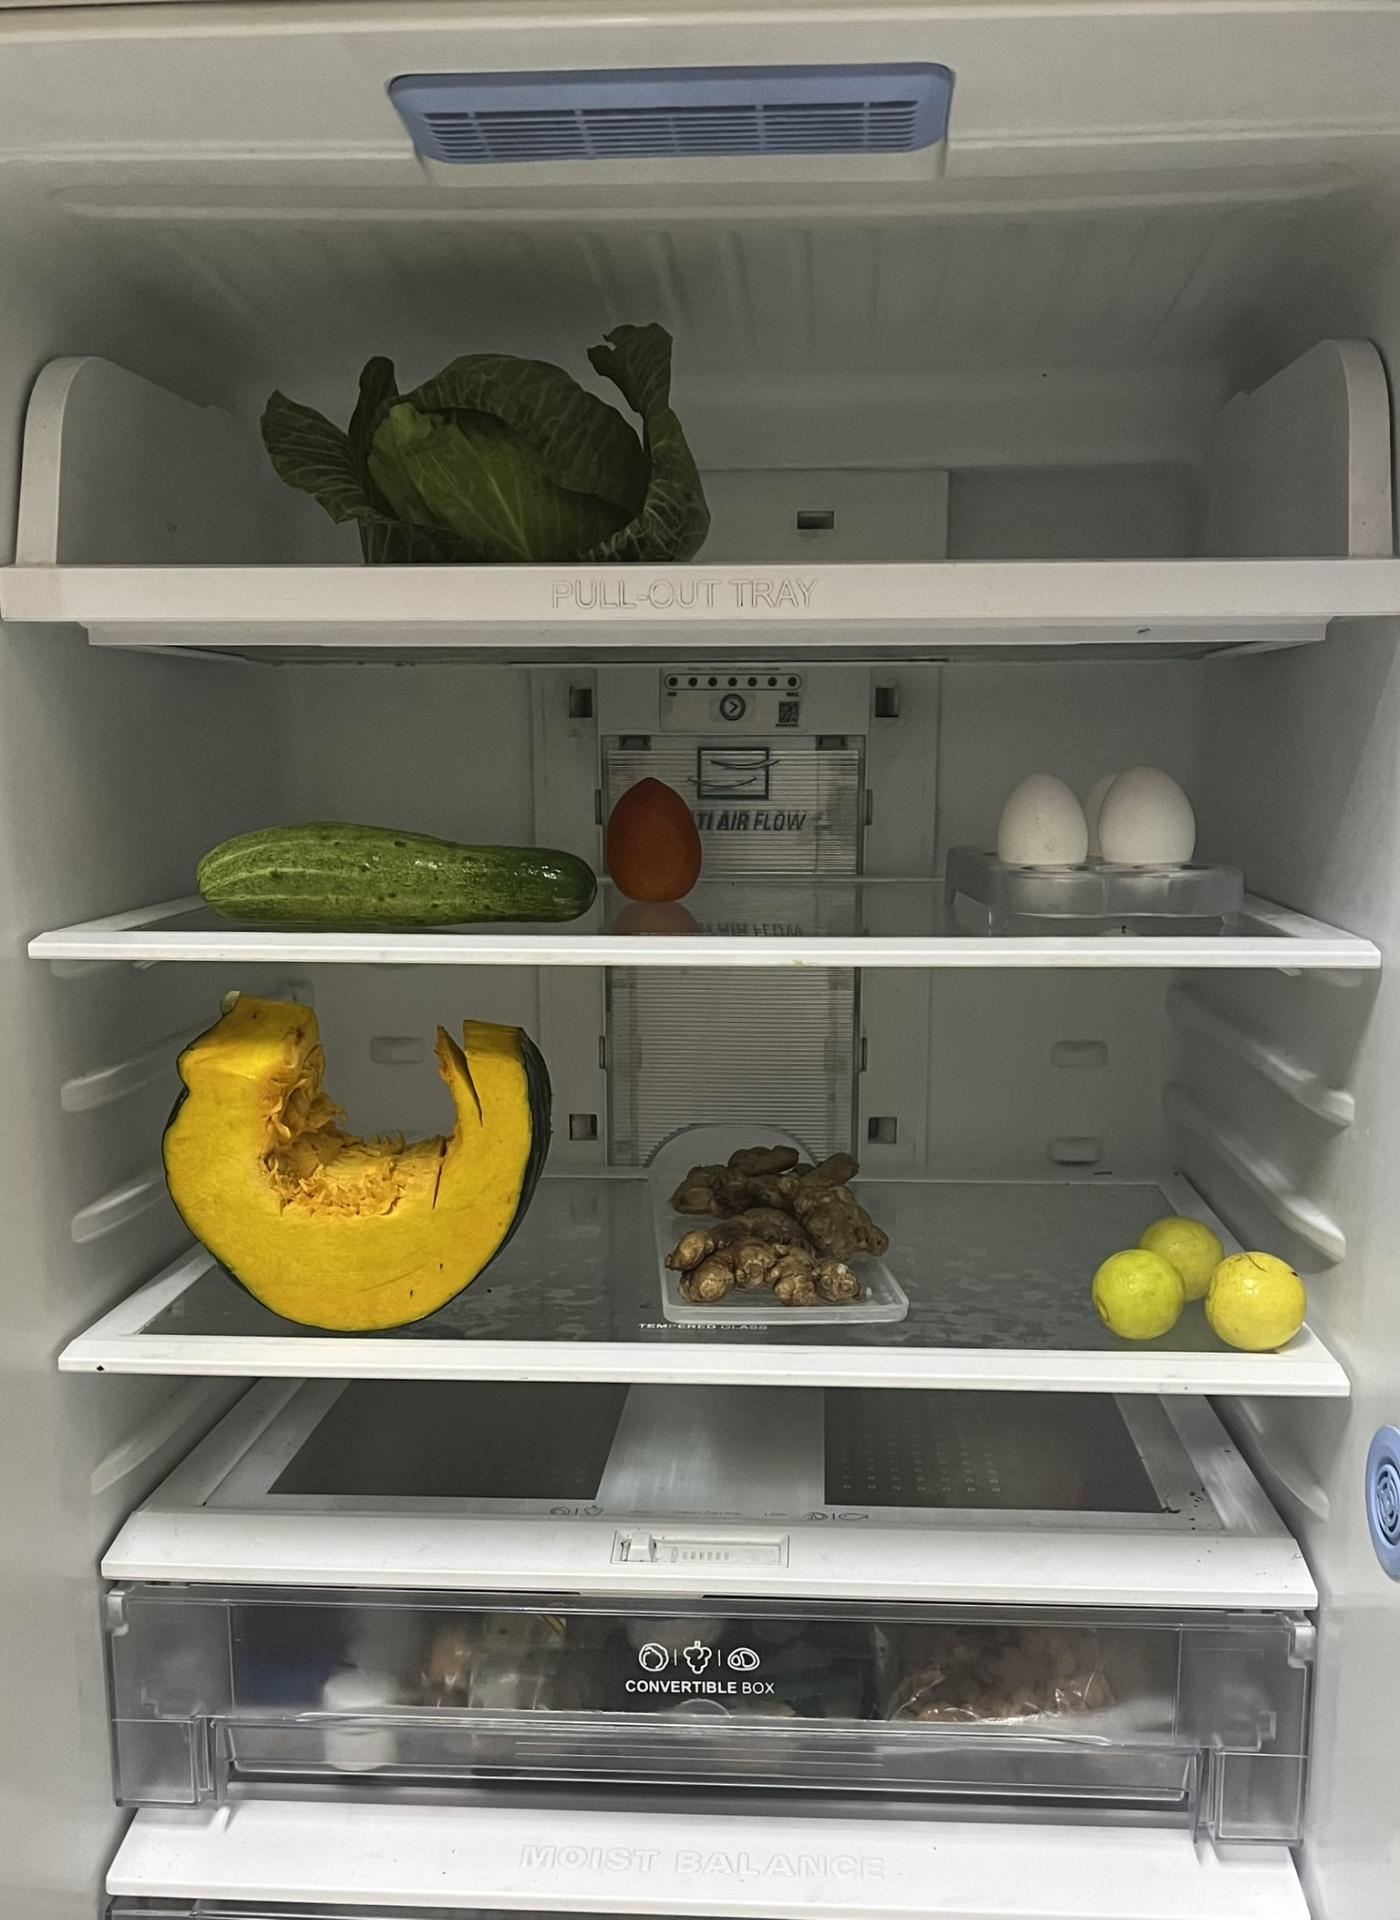cabbage: (267, 319, 711, 568)
cucumber: (197, 815, 595, 926)
egg: (997, 759, 1197, 915)
ginger: (665, 1137, 896, 1300)
lemon: (1094, 1197, 1309, 1345)
pumpkin: (167, 990, 544, 1334)
tomato: (605, 781, 711, 900)
